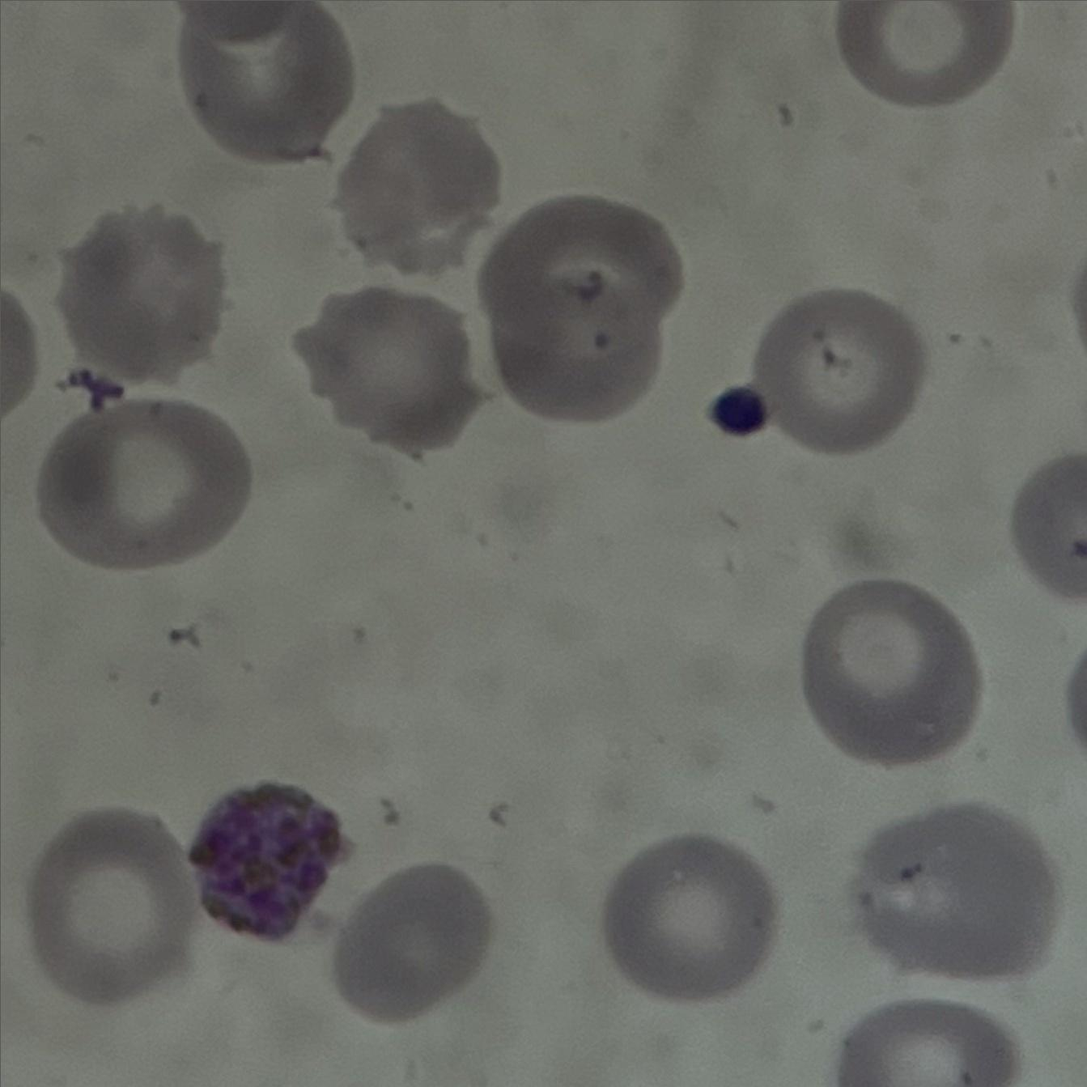Infected: (186, 781, 350, 939)
Uninfected: (49, 397, 260, 568), (855, 805, 1058, 980), (291, 287, 487, 467), (801, 584, 987, 764), (478, 192, 679, 352), (57, 211, 233, 390), (30, 808, 186, 1005), (602, 829, 778, 1002), (183, 0, 355, 163), (761, 292, 931, 451), (337, 109, 508, 267), (488, 281, 661, 426), (335, 870, 490, 1021), (837, 0, 1020, 109)
